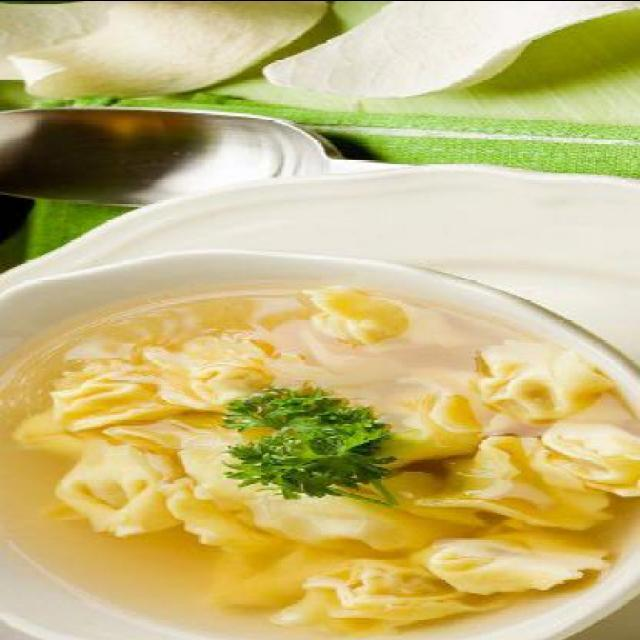Tortellini in broth: (26, 262, 617, 626)
